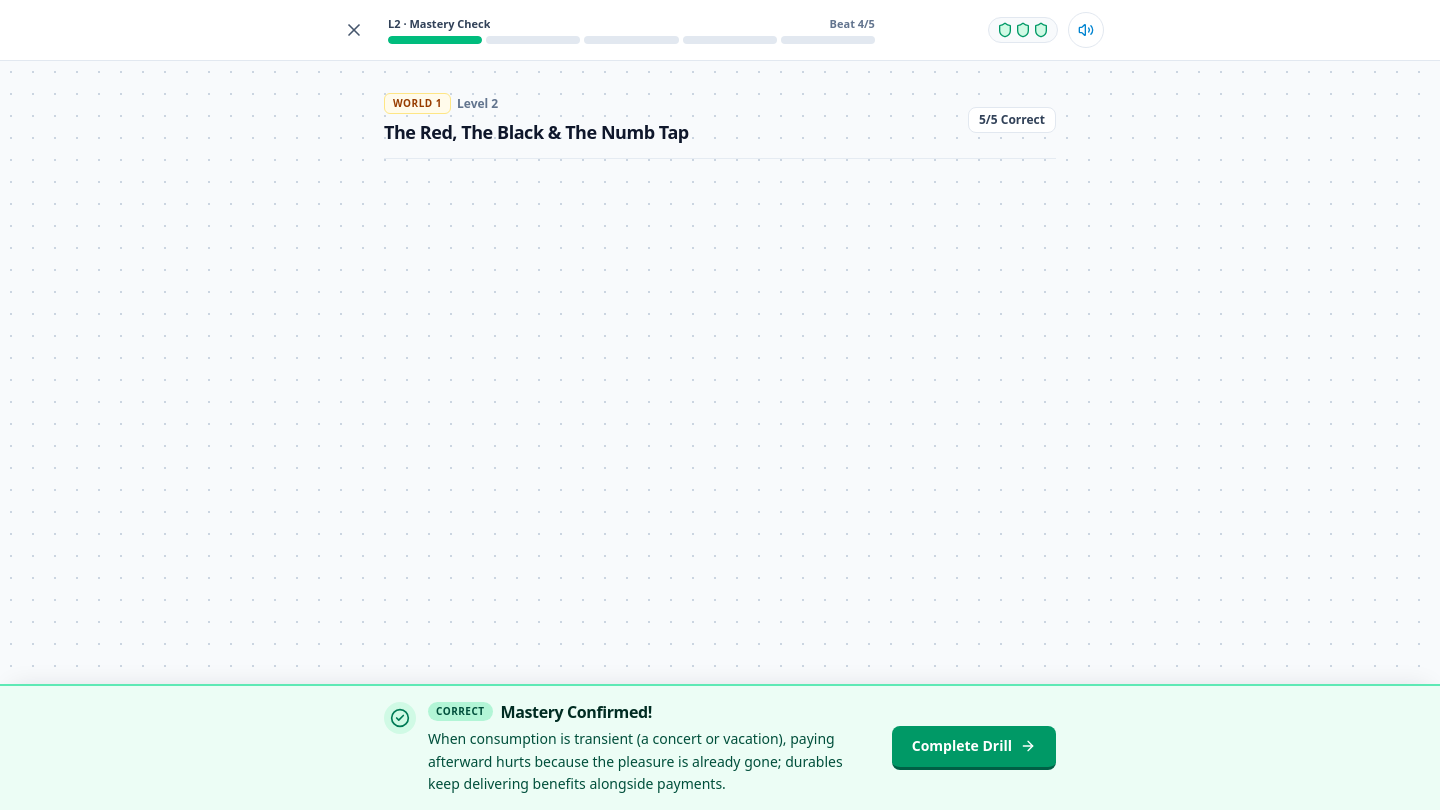
it: Phase 5C: Full 5-Beat Arena, Domain Integration, Persistence & Navigation › prevents duplicate XP on replay and displays Replay Complete — Best Score Preserved
The image size is (1440, 810).
Earlier steps of the test are not shown.
What coordinates should you click on to do the following:
click the button "Complete Drill"
I would click on:
 (974, 748)
Its box is left=892, top=726, right=1056, bottom=770.
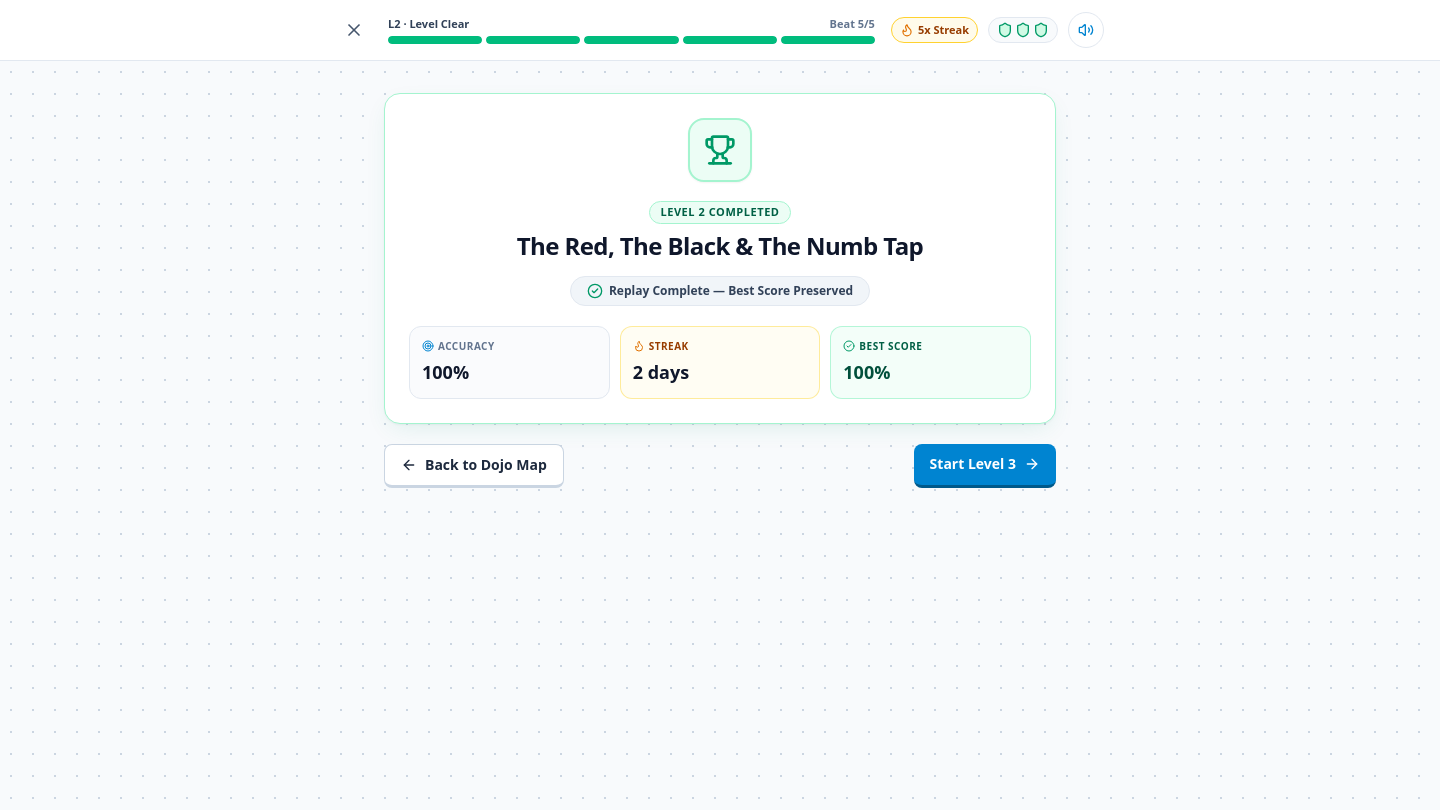
Expected: the text "Replay Complete — Best Score Preserved" is shown, left=609, top=282, right=853, bottom=298
